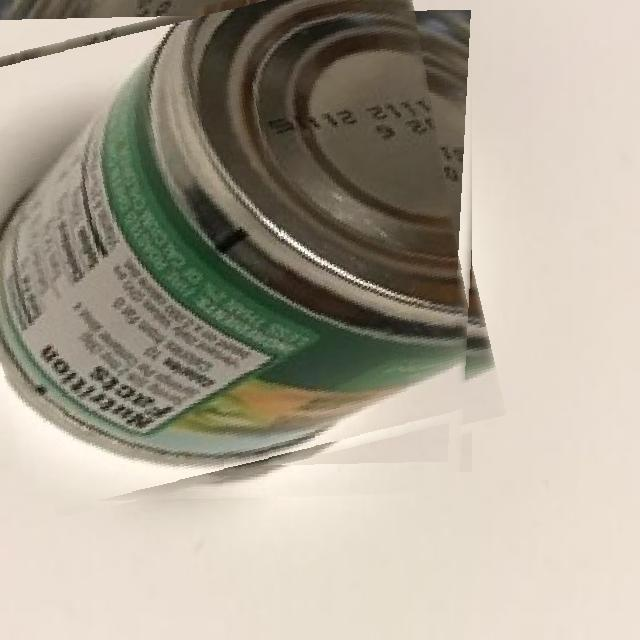recyclable: (0, 0, 485, 504)
